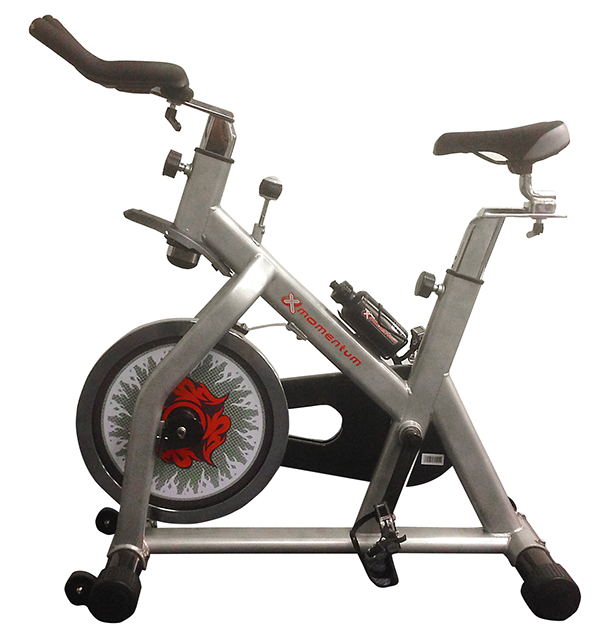gym_bike: (24, 1, 586, 615)
